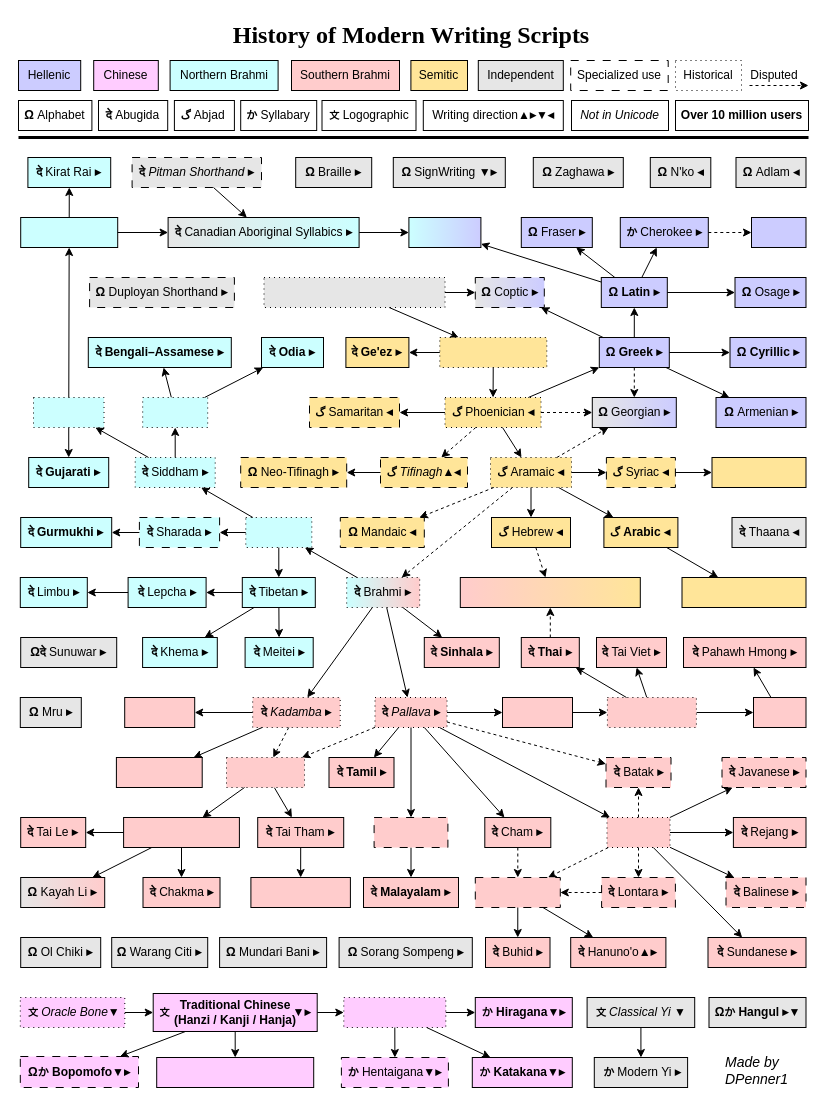
This 834x1106 diagram has some shape labels left out. Here are the shapes that lost their labels. From the top down, the centre of each, then its label:
At [69,232]: "दे Devanagari ▸".
At [444,232]: "दे Pollard ▸".
At [778,232]: "か Vai ▸".
At [354,292]: "文 か Ω Egyptian Hieroglyphs ◂ ▸".
At [493,352]: "گ Proto-Sinaitic ?".
At [68,412]: "दे Nagari ▸".
At [175,412]: "दे Gaudi ▸".
At [758,472]: "Ω Mongolian ▼".
At [278,532]: "दे Gupta ▸".
At [549,592]: "Ω Nyiakeng Puachue Hmong ▸".
At [743,592]: "Ω Hanifi Rohingya ◂".
At [159,712]: "दे Telugu ▸".
At [537,712]: "दे Khmer ▸".
At [651,712]: "दे Sukhothai ▸".
At [779,712]: "दे Lao ▸".
At [158,772]: "दे Kannada ▸".
At [265,772]: "दे Old Mon ▸".
At [181,832]: "दे Mon –Burmese ▸".
At [410,832]: "दे Grantha ▸".
At [638,832]: "दे Kawi ▸".
At [300,892]: "दे New Tai Lue ▸".
At [517,892]: "दे Baybayin ▸".
At [394,1012]: "か Man'yogana ▼".
At [235,1072]: "文 Simplified Chinese ▼ ▸".
